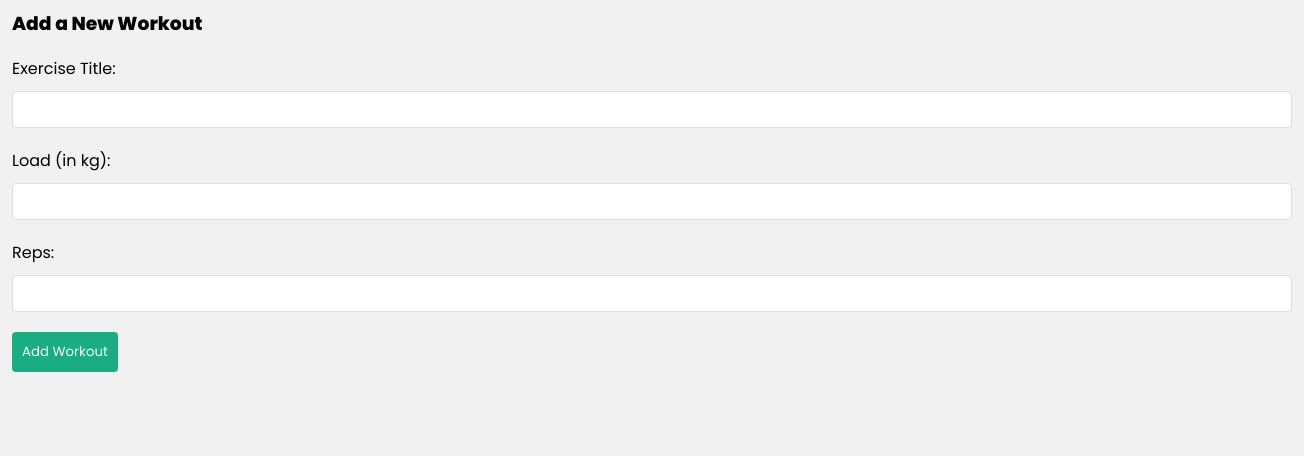
WorkoutForm › adds error class to invalid fields on failed submit
This screenshot has width=1304, height=456.
Click the button "Add Workout" at (65, 352), box x1=12 y1=332 x2=118 y2=372
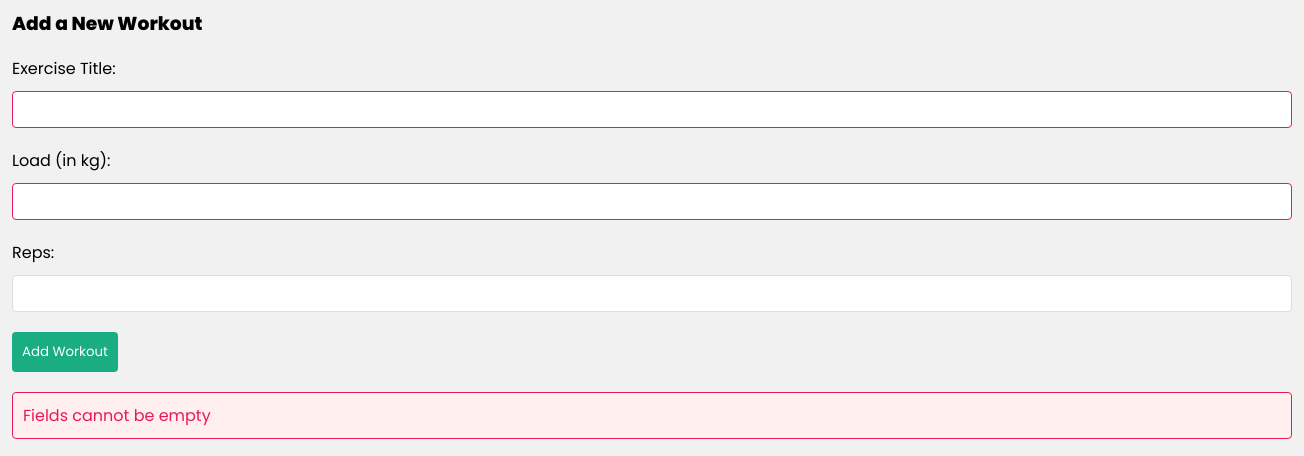
Expected: the text "Fields cannot be empty" is shown, x1=12 y1=392 x2=1292 y2=439
